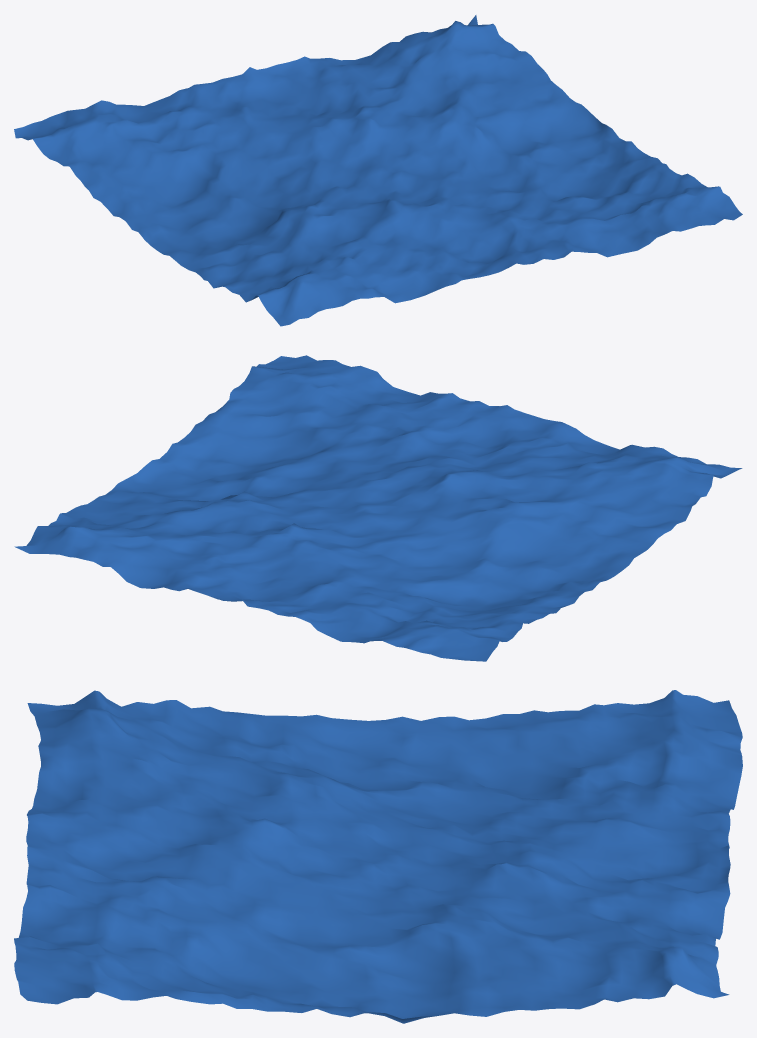
The model's file is ocean_water_animated.glb.
3 renders of one model, top to bottom at view 1: azimuth 30°, elevation 25°; view 2: azimuth 150°, elevation 25°; view 3: azimuth 270°, elevation 25°, orthographic. The views are drawn at different scales.
Parts seen in each view (by area): view 1: Plane; view 2: Plane; view 3: Plane.
Boxes of the visible parts, x1=… form: Plane: x1=14, y1=15, x2=742, y2=326; Plane: x1=14, y1=355, x2=742, y2=661; Plane: x1=14, y1=690, x2=742, y2=1023.
Size of the model in its own units: 8.66 by 0.9123 by 8.81.
